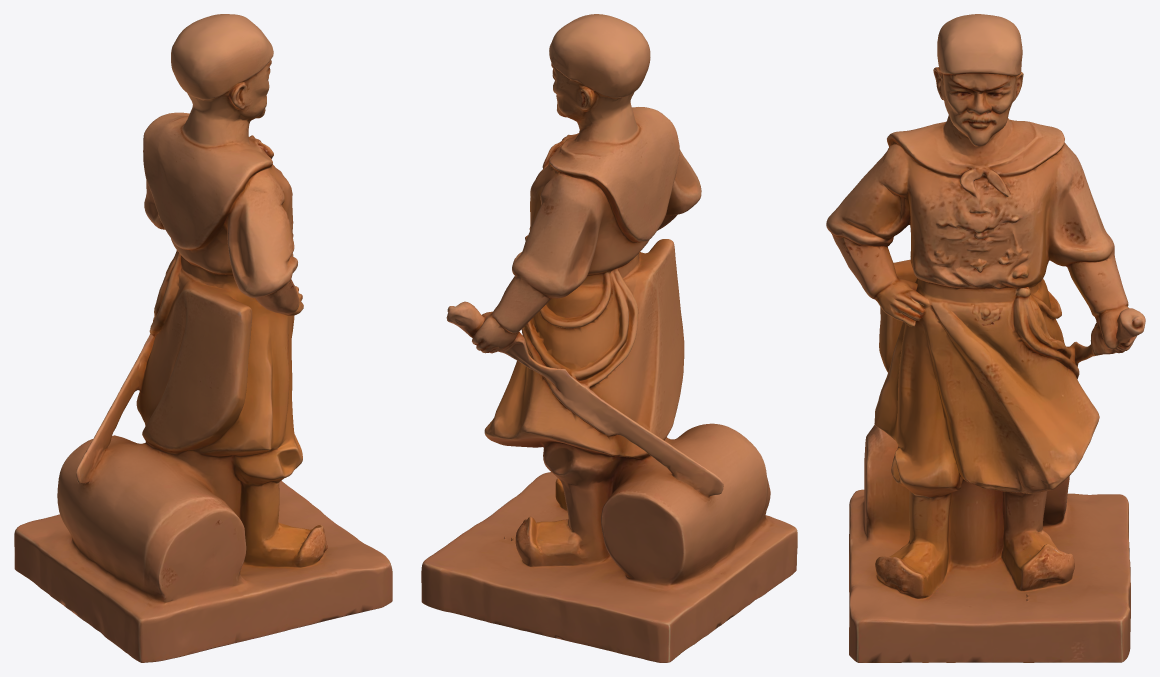
File: Le_Hoan.glb
3 renders of one model, left to right at view 1: azimuth 30°, elevation 25°; view 2: azimuth 150°, elevation 25°; view 3: azimuth 270°, elevation 25°, orthographic. The views are drawn at different scales.
Visible parts, largest first — view 1: tripo_node_b1f83906-55c9-4f51-b6f0-104d5cb23ffd; view 2: tripo_node_b1f83906-55c9-4f51-b6f0-104d5cb23ffd; view 3: tripo_node_b1f83906-55c9-4f51-b6f0-104d5cb23ffd.
Part boxes in pixels (x1,y1,x2,y2): tripo_node_b1f83906-55c9-4f51-b6f0-104d5cb23ffd: (14,14,392,662); tripo_node_b1f83906-55c9-4f51-b6f0-104d5cb23ffd: (421,14,797,662); tripo_node_b1f83906-55c9-4f51-b6f0-104d5cb23ffd: (826,14,1145,662).
Bounding box in the file's own units: 0.4706 × 1 × 0.4924.
1 material, 1 textured.
